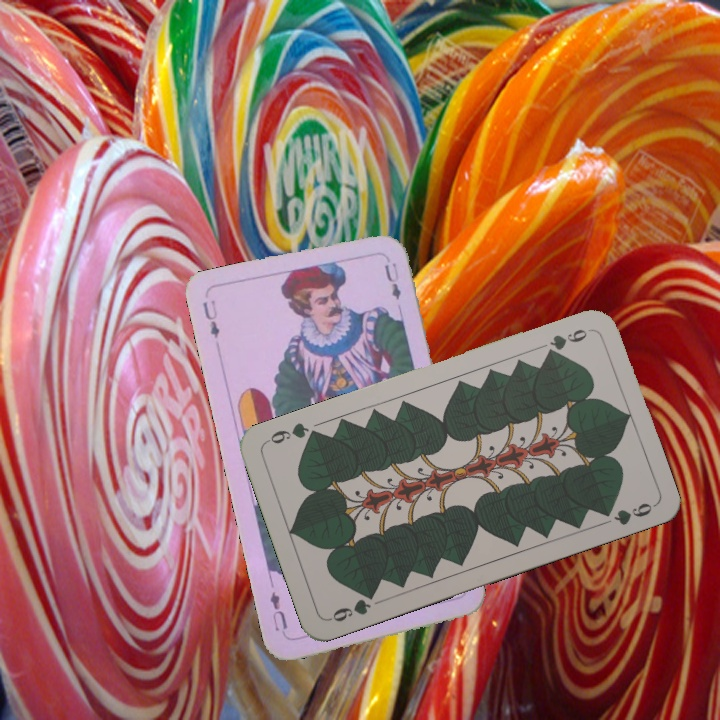EU: (198, 296, 222, 340)
G9: (325, 587, 378, 625), (540, 325, 590, 359)
